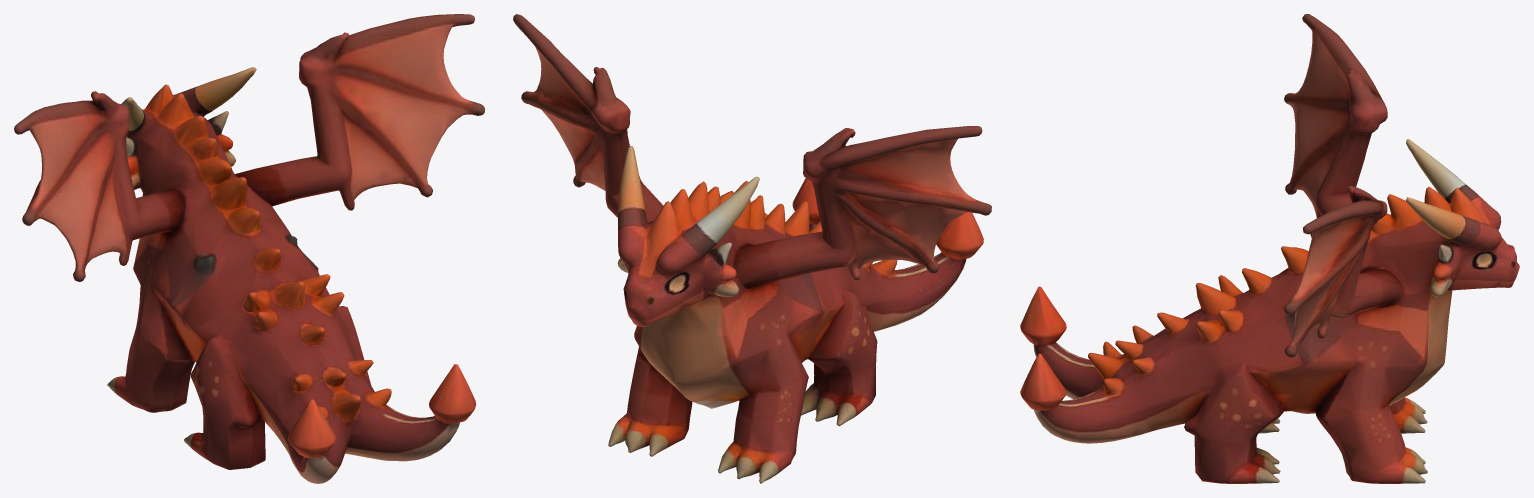
Rendered from dragon_dusk.glb.
3 renders of one model, left to right at view 1: azimuth 30°, elevation 25°; view 2: azimuth 150°, elevation 25°; view 3: azimuth 270°, elevation 25°, orthographic. The views are drawn at different scales.
Parts seen in each view (by area): view 1: left wing, body, tail, right wing, head, back left leg, front left leg, back right leg; view 2: right wing, body, head, left wing, tail, front left leg, back left leg, front right leg; view 3: body, tail, right wing, head, left wing, front right leg, back right leg, front left leg.
Part boxes in pixels (bbox=[...]): left wing: bbox=[235, 14, 484, 210]; body: bbox=[133, 115, 349, 362]; tail: bbox=[234, 313, 476, 483]; right wing: bbox=[14, 91, 182, 281]; head: bbox=[121, 67, 256, 196]; back left leg: bbox=[184, 336, 265, 469]; front left leg: bbox=[107, 281, 194, 412]; back right leg: bbox=[338, 306, 371, 385]; right wing: bbox=[733, 126, 991, 288]; body: bbox=[634, 181, 850, 408]; head: bbox=[617, 146, 759, 326]; left wing: bbox=[513, 14, 663, 222]; tail: bbox=[792, 178, 983, 331]; front left leg: bbox=[718, 331, 808, 483]; back left leg: bbox=[801, 290, 877, 426]; front right leg: bbox=[608, 346, 692, 456]; body: bbox=[1195, 194, 1452, 413]; tail: bbox=[1020, 286, 1217, 443]; right wing: bbox=[1284, 14, 1387, 217]; head: bbox=[1370, 139, 1519, 296]; left wing: bbox=[1284, 186, 1404, 357]; front right leg: bbox=[1315, 359, 1427, 483]; back right leg: bbox=[1184, 364, 1283, 483]; front left leg: bbox=[1389, 397, 1427, 433].
Bounding box in the file's own units: 9 × 6.45 × 8.82.
9 materials, 9 textured.
